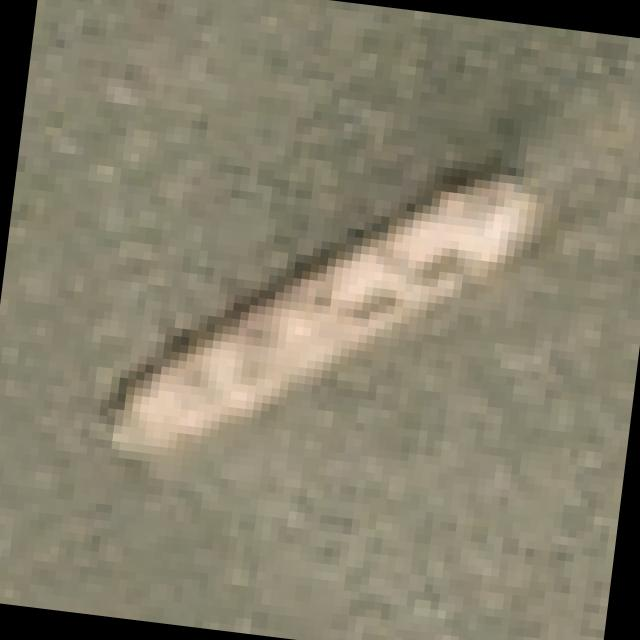ship: (65, 97, 584, 523)
